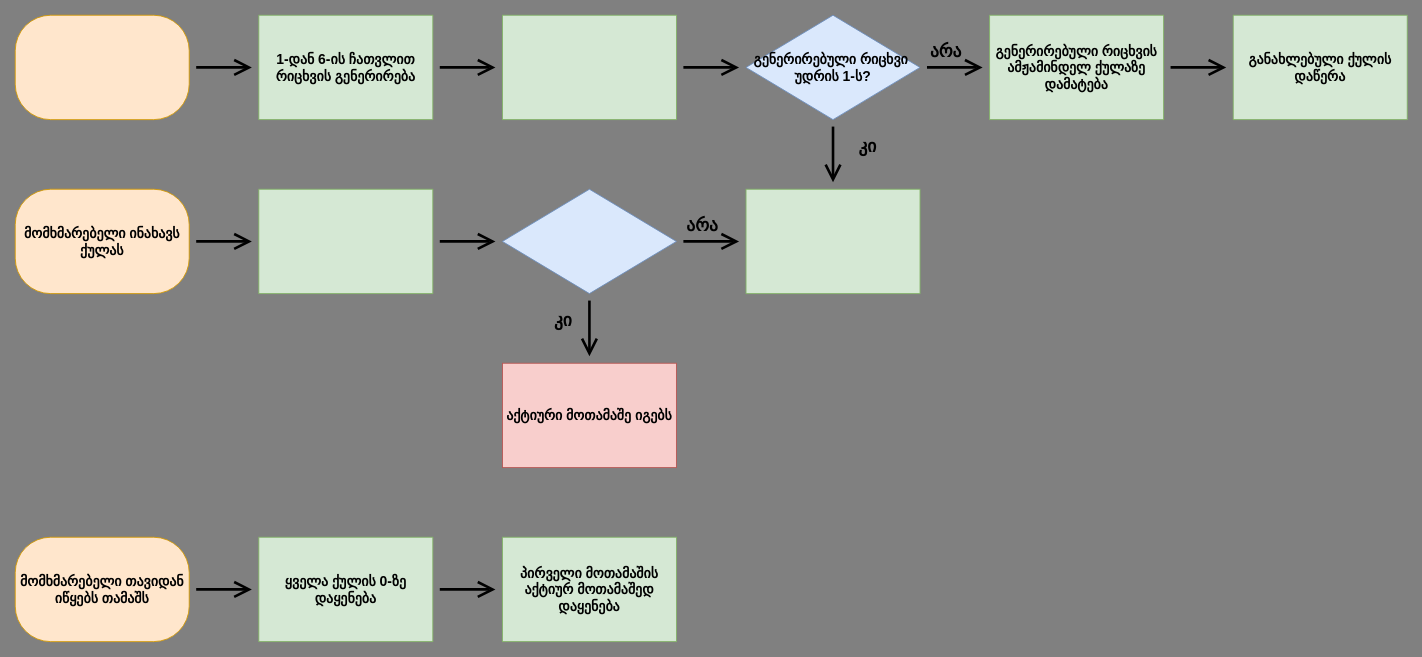
Image size: 1422x657. Some labels were removed from this diagram. The shapes that lost their labels are listed below. From the top down, each one's box as (x1, y1, x2, y2) in pixels, then its label:
(14, 14, 189, 120): მომხმარებელი აგორებს კამათელს
(502, 14, 676, 120): გენერირებულ რიცხვთან ასოცირებული კამათელის გამოტანა
(258, 188, 433, 294): ამჟამინდელი ქულის, ჯამურ ქულაზე დამატება
(502, 188, 676, 294): ქულა მეტია ან უდრის 100-ს?
(745, 188, 920, 294): მოთამაშის შეცვლა
